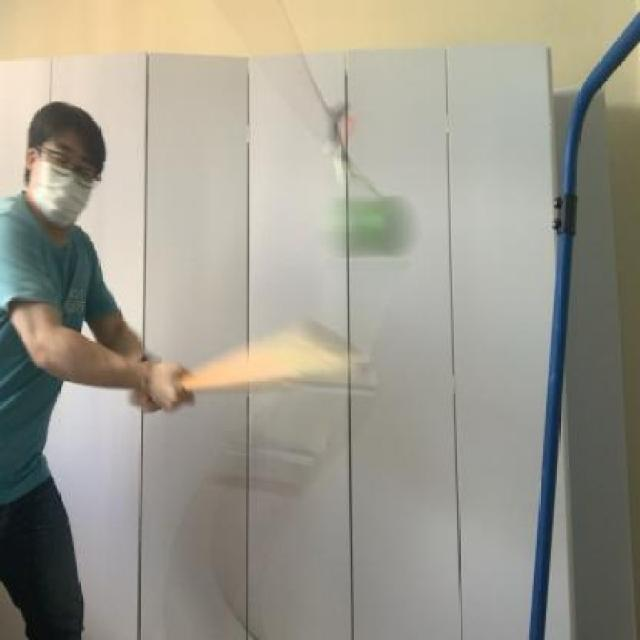baseball: (312, 192, 410, 271)
